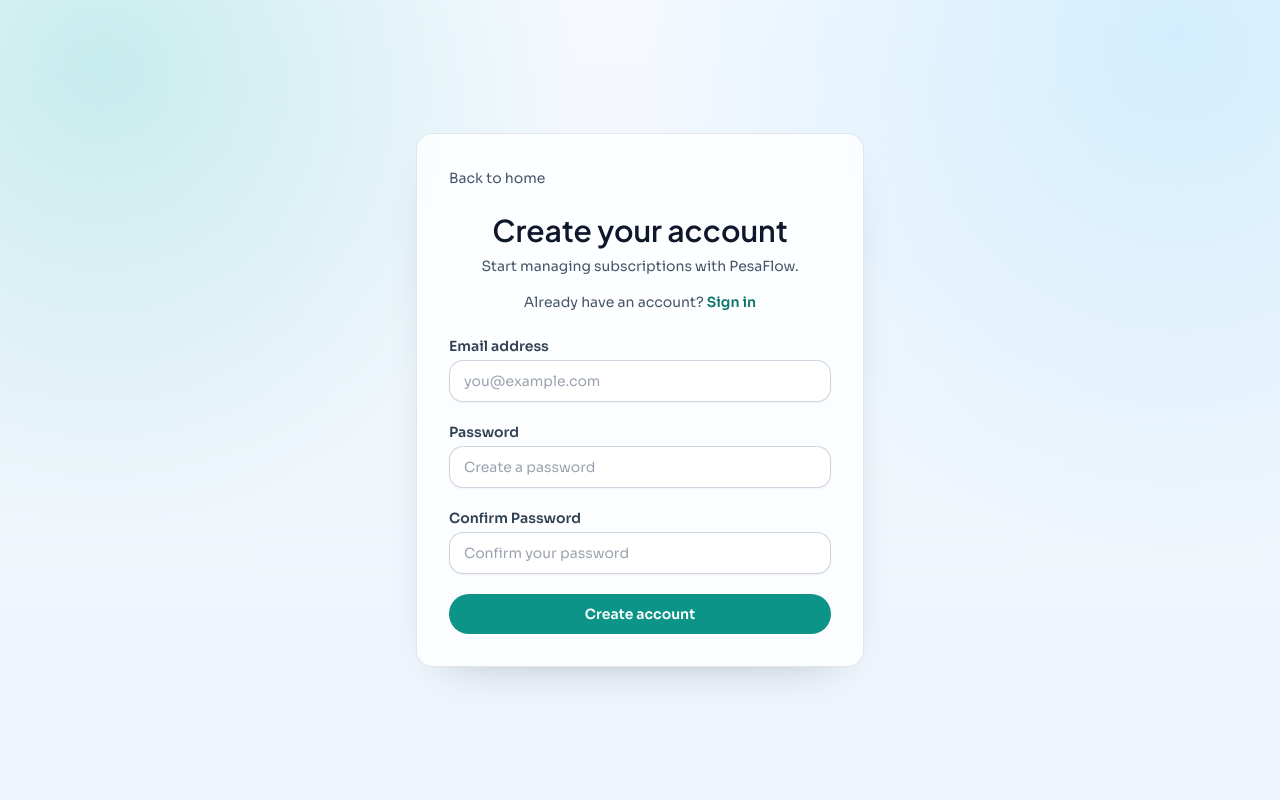
SignupPage › should show error when password is too short
Type "test@example.com" into the field labelled "Email address" at (640, 381), box [449, 360, 831, 402]
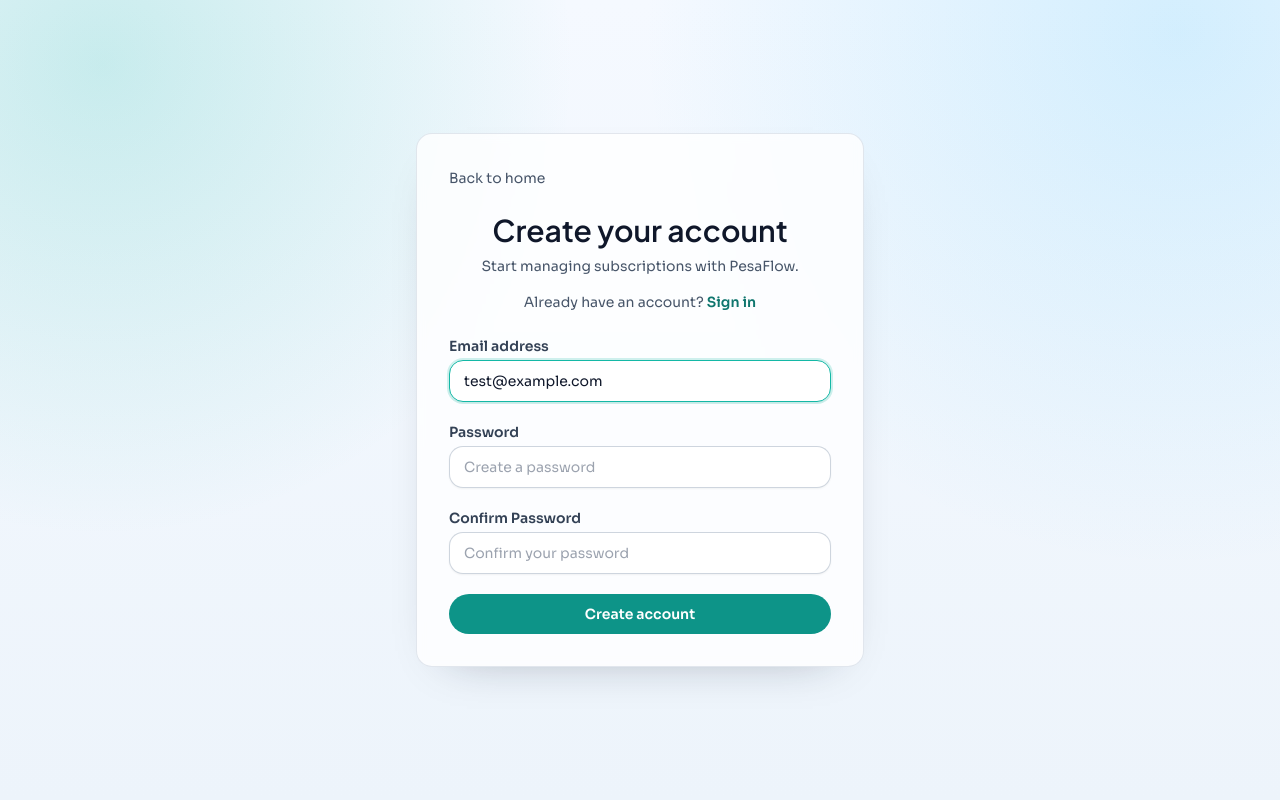
Type "12345" into the password field labelled "Password" at (640, 467), box [449, 446, 831, 488]
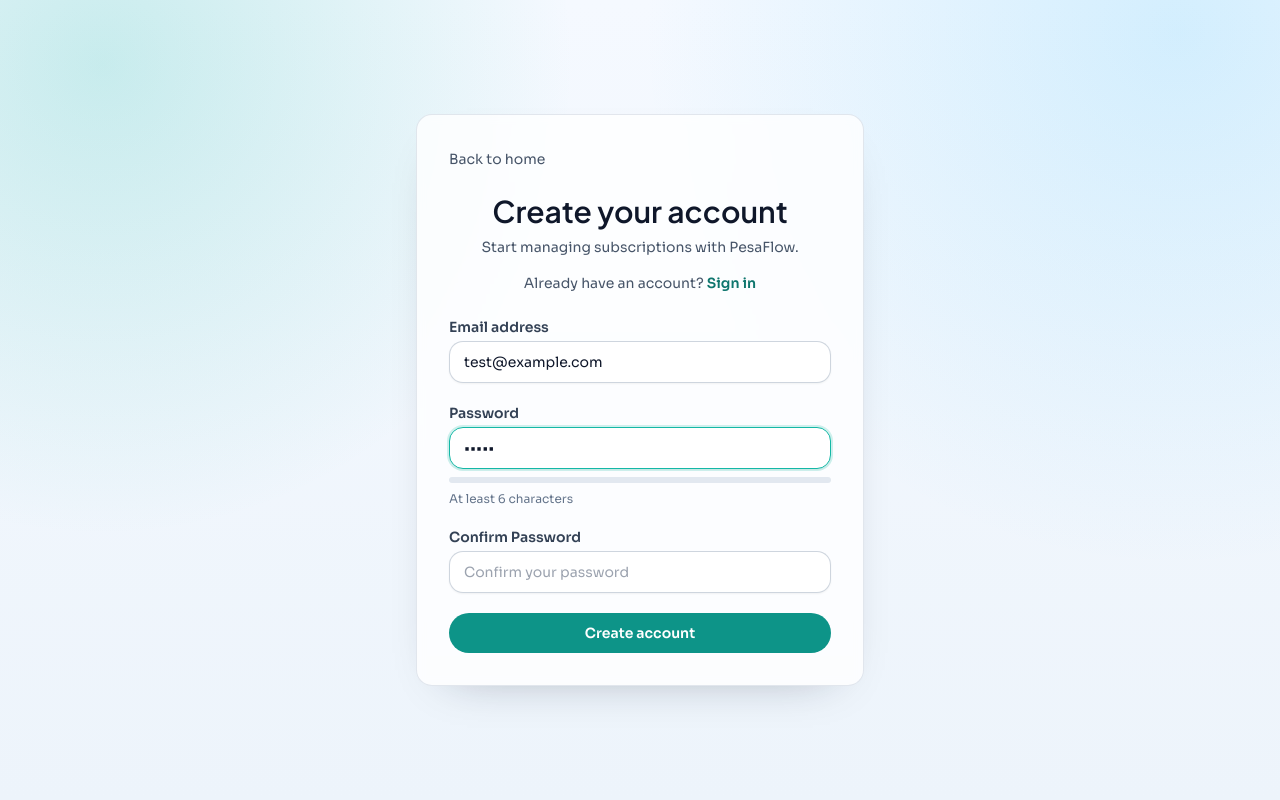
Type "12345" into the password field labelled "Confirm Password" at (640, 572), box [449, 551, 831, 593]
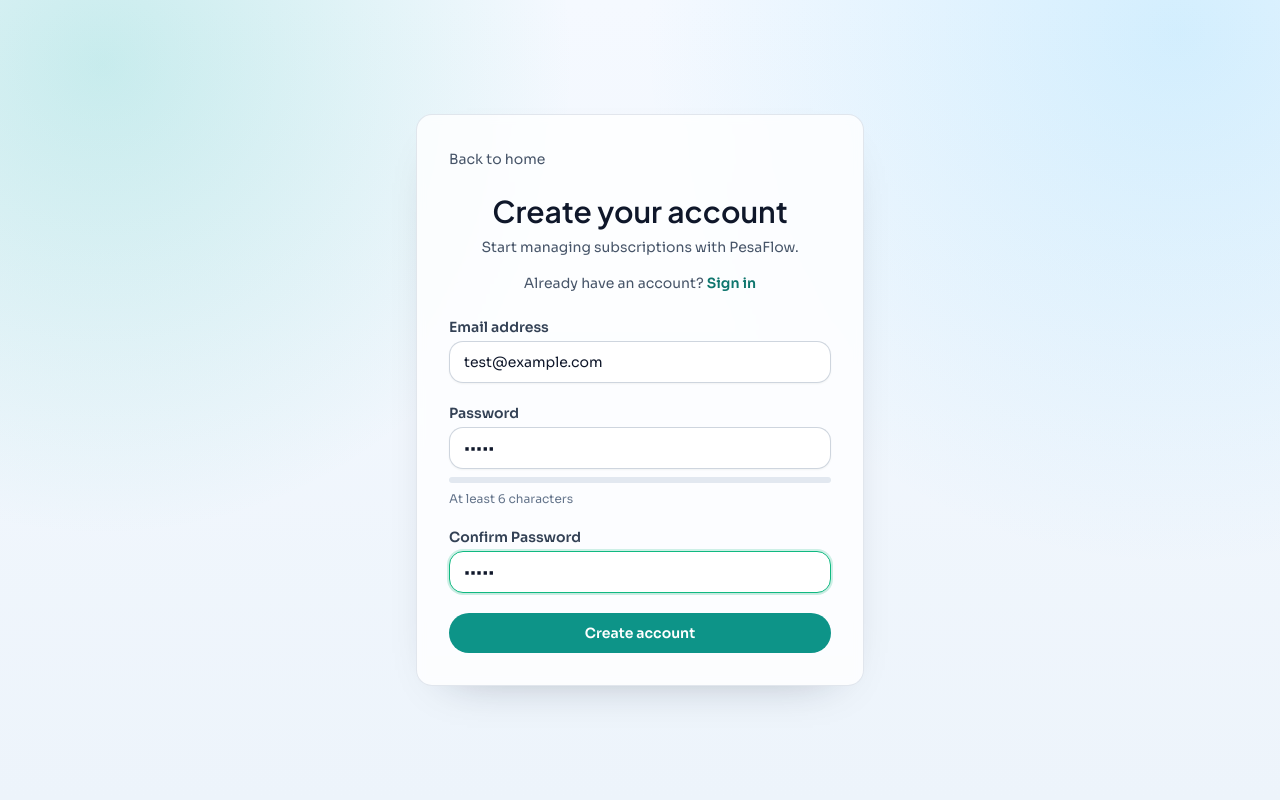
Click the button "Create account" at (640, 633), box [449, 613, 831, 653]
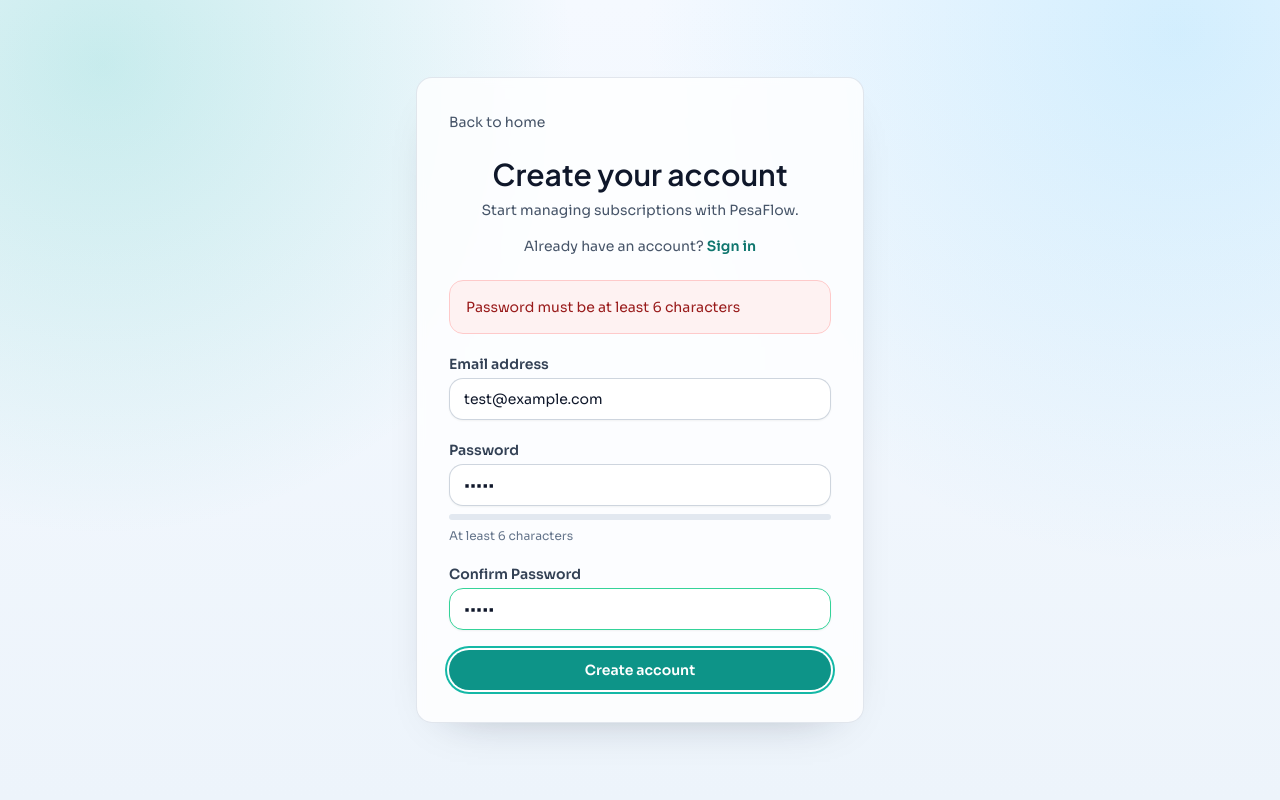
Result: the text "Password must be at least 6 characters" is shown at [466, 298, 740, 316]
